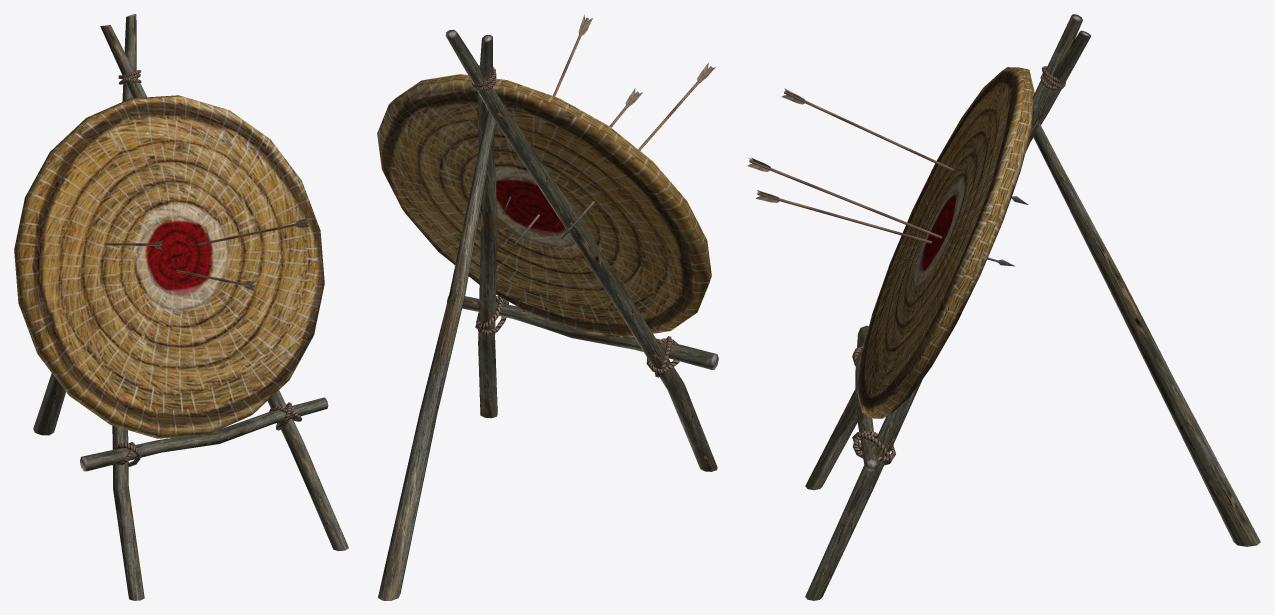
Rendered from Target_Archery.fbx.
The picture shows the model from 3 angles, left to right: view 1: azimuth 30°, elevation 25°; view 2: azimuth 150°, elevation 25°; view 3: azimuth 270°, elevation 25°; orthographic projection. The views are drawn at different scales.
Visible parts, largest first — view 1: TargetArchery; view 2: TargetArchery; view 3: TargetArchery.
Part boxes in pixels (<box>): TargetArchery: <box>14,14,348,600</box>; TargetArchery: <box>377,14,718,600</box>; TargetArchery: <box>747,14,1260,600</box>.
Bounding box in the file's own units: 122 × 182 × 163.
